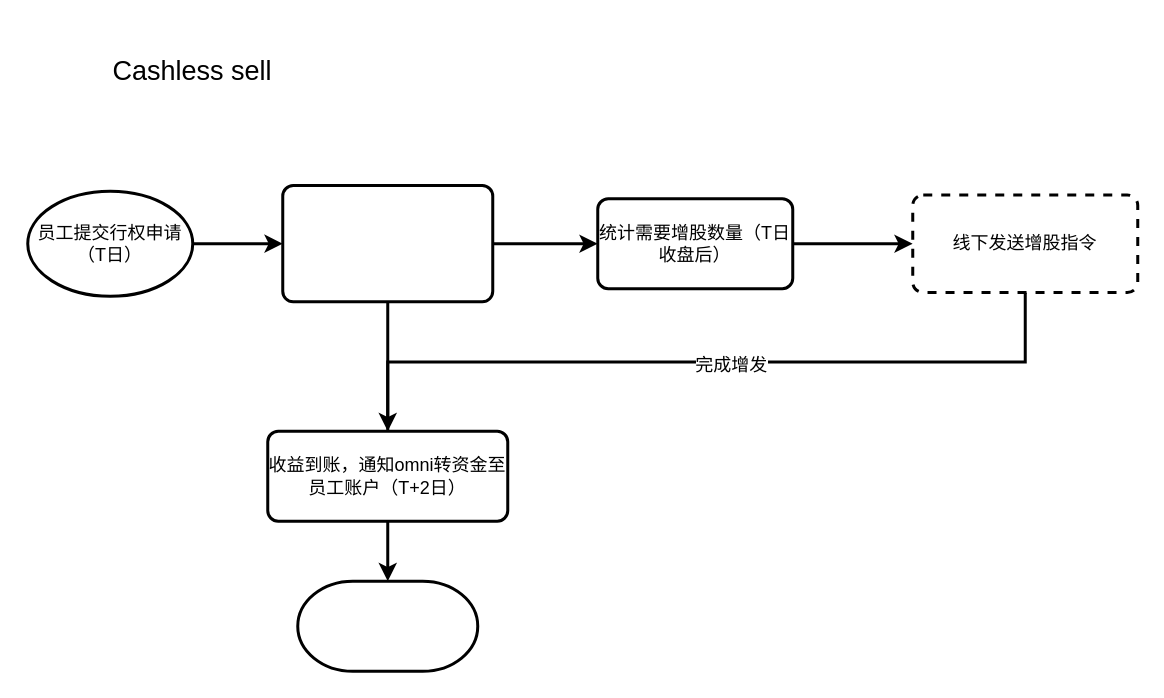
Some shapes in this 1164 by 698 pixel diagram are drawn without their labels. Each missing label, with the box of its shape:
行权完成（T+N）: (296, 579, 478, 672)
通知omni卖出（T日）: (280, 183, 494, 303)
